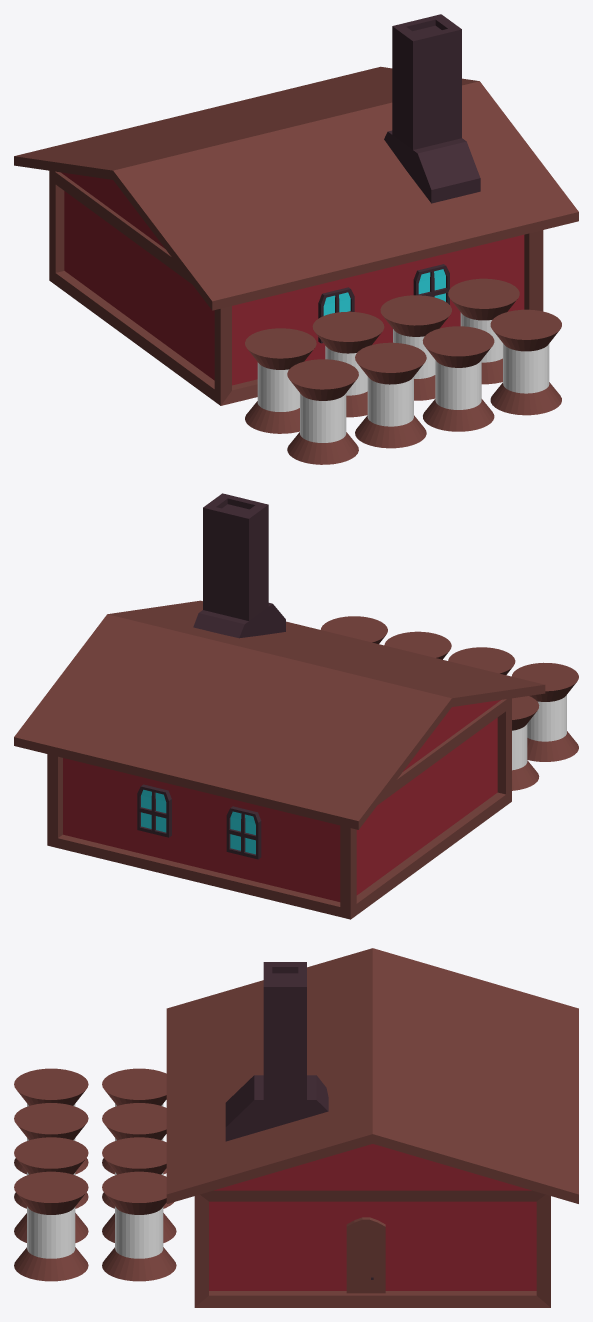
The model's file is cotton_spinning.fbx.
3 renders of one model, top to bottom at view 1: azimuth 30°, elevation 25°; view 2: azimuth 150°, elevation 25°; view 3: azimuth 270°, elevation 25°, orthographic. The views are drawn at different scales.
Visible parts, largest first — view 1: Cube, Chimney, Cylinder.002, Cylinder.001, Cylinder.003, Cylinder, Cylinder.004, Cylinder.007, Cylinder.005, Cylinder.006, Cube.005; view 2: Cube, Chimney, Cylinder, Cube.005, Cylinder.004, Cylinder.001, Cylinder.002, Cylinder.003; view 3: Cube, Chimney, Cylinder.003, Cylinder.007, Cube.026, Cylinder.002, Cylinder.006, Cylinder, Cylinder.001, Cylinder.005, Cylinder.004.
Boxes of the visible parts, box(x1,y1,x2,y2) form: Cube: box(14, 66, 578, 405); Chimney: box(384, 14, 480, 203); Cylinder.002: box(422, 326, 494, 431); Cylinder.001: box(355, 342, 426, 448); Cylinder.003: box(490, 309, 561, 415); Cylinder: box(287, 359, 358, 464); Cylinder.004: box(245, 328, 316, 433); Cylinder.007: box(448, 278, 519, 384); Cylinder.005: box(312, 311, 384, 417); Cylinder.006: box(380, 295, 451, 400); Cube.005: box(318, 264, 449, 343); Cube: box(14, 600, 545, 919); Chimney: box(193, 493, 285, 638); Cylinder: box(511, 662, 578, 761); Cube.005: box(137, 784, 261, 859); Cylinder.004: box(512, 696, 539, 790); Cylinder.001: box(448, 647, 515, 674); Cylinder.002: box(384, 631, 451, 659); Cylinder.003: box(320, 616, 387, 643); Cube: box(166, 948, 578, 1307); Chimney: box(225, 962, 328, 1141); Cylinder.003: box(14, 1171, 88, 1281); Cylinder.007: box(102, 1171, 176, 1281); Cube.026: box(346, 1217, 385, 1293); Cylinder.002: box(14, 1137, 88, 1242); Cylinder.006: box(102, 1137, 176, 1242); Cylinder: box(14, 1068, 88, 1174); Cylinder.001: box(14, 1103, 88, 1208); Cylinder.005: box(102, 1103, 173, 1208); Cylinder.004: box(102, 1068, 166, 1174).
Size of the model in its own units: 7.04 by 5.26 by 9.04.
